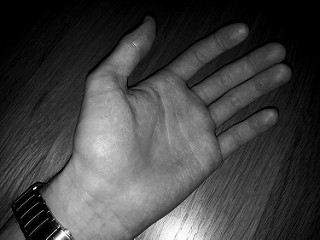palm: (102, 79, 217, 211)
